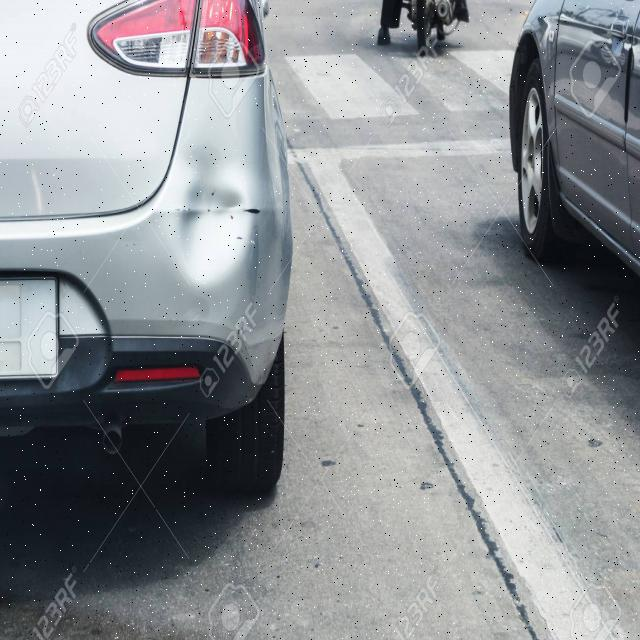rear-bumper-dent: (0, 136, 286, 416)
